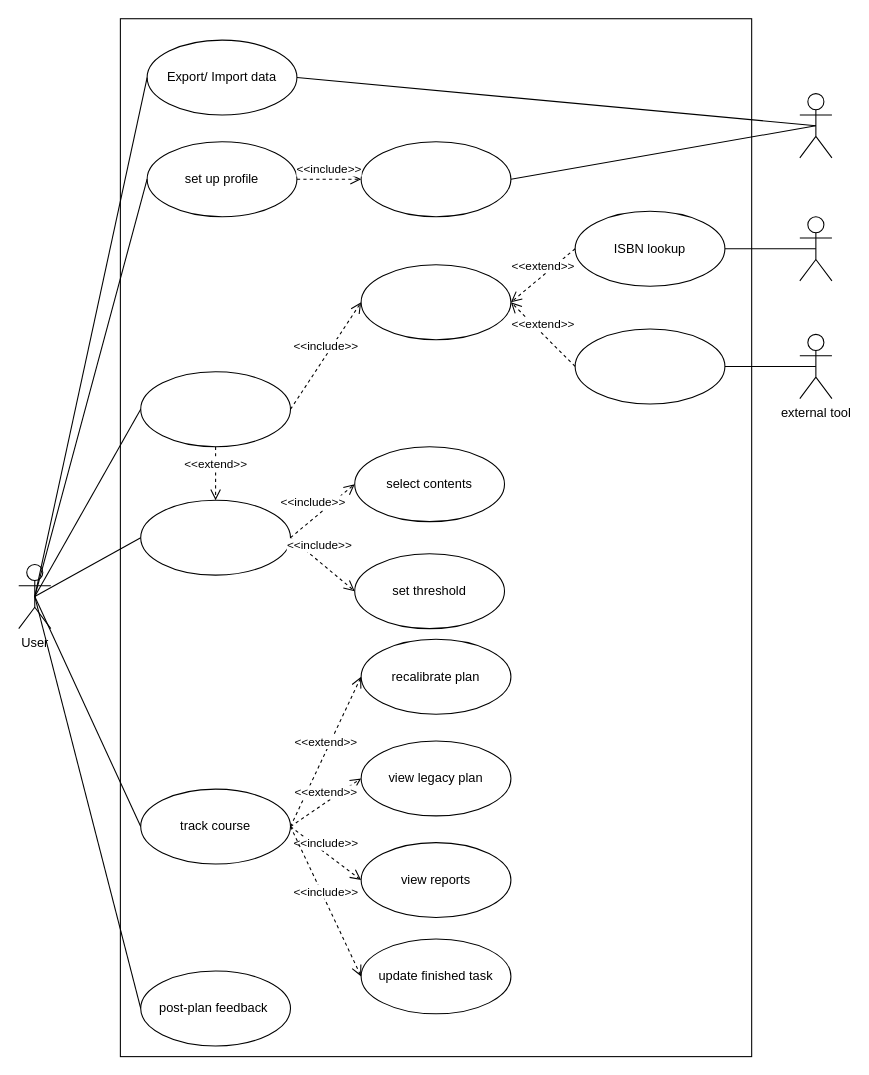
Image size: 869x1075. Some labels were removed from this diagram. The shapes that lost their labels are listed below. From the top down, each one's centre as x and y in pixels, then its label:
At (x=815, y=125): "OS".
At (x=435, y=179): "Schedule Notification".
At (x=815, y=248): "online api".
At (x=435, y=302): "set material".
At (x=649, y=366): "OCR input".
At (x=215, y=409): "create course".
At (x=215, y=537): "set plan".
